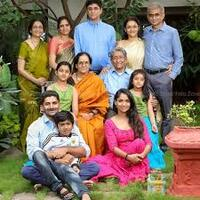person: (105, 82, 147, 132), (141, 1, 180, 45), (28, 81, 66, 119), (51, 4, 76, 54), (100, 44, 134, 77), (115, 14, 147, 48), (23, 14, 49, 54), (51, 56, 81, 90), (79, 1, 107, 35)
